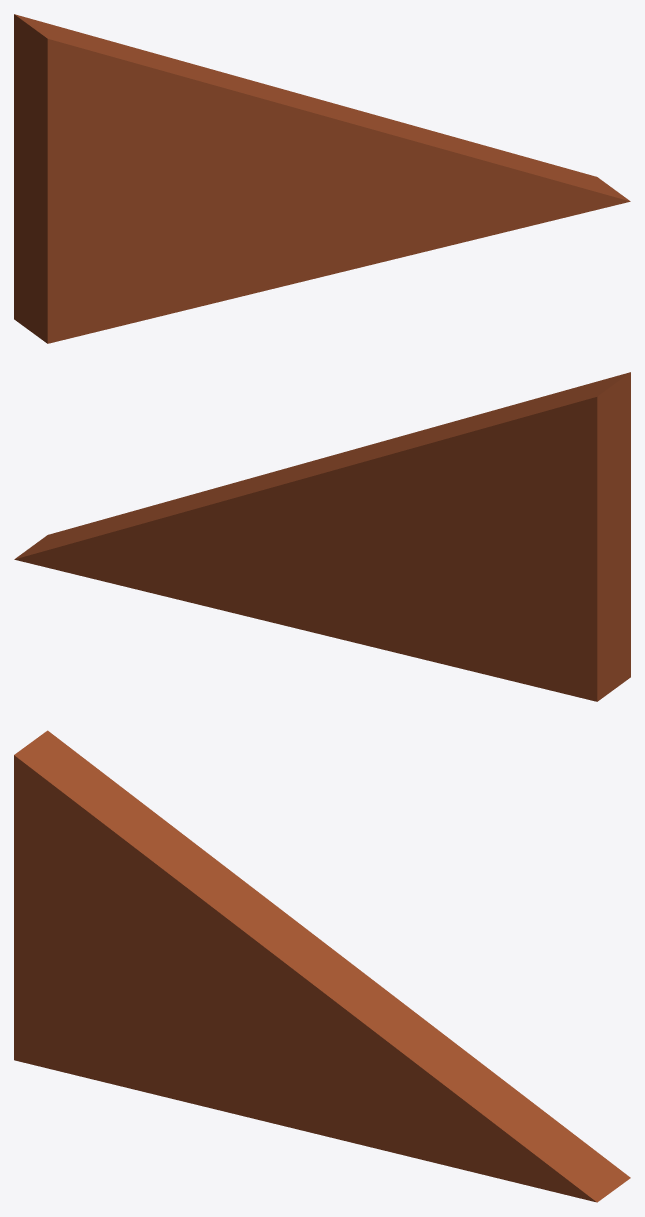
Rendered from roof_small_gable.fbx.
The picture shows the model from 3 angles, top to bottom: view 1: azimuth 30°, elevation 25°; view 2: azimuth 150°, elevation 25°; view 3: azimuth 330°, elevation 25°; orthographic projection.
Visible parts, largest first — view 1: Mesh1_roof_small_gable1 Model; view 2: Mesh1_roof_small_gable1 Model; view 3: Mesh1_roof_small_gable1 Model.
Part boxes in pixels (box(x1,y1,x2,y2)): Mesh1_roof_small_gable1 Model: box(14, 14, 630, 343); Mesh1_roof_small_gable1 Model: box(14, 372, 630, 701); Mesh1_roof_small_gable1 Model: box(14, 730, 630, 1202).
Bounding box in the file's own units: 1 × 0.5 × 0.1.
